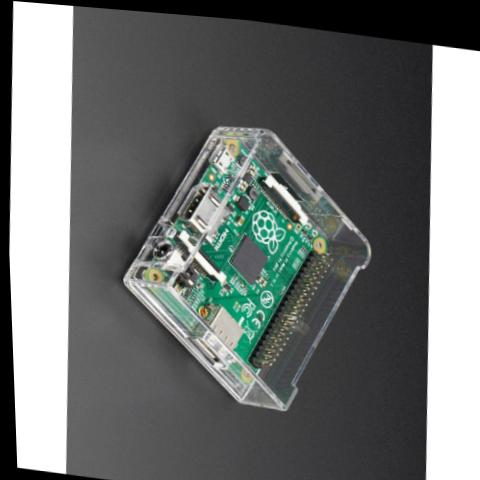Raspberry-Pi-3-Model-A-: (120, 111, 347, 398)
